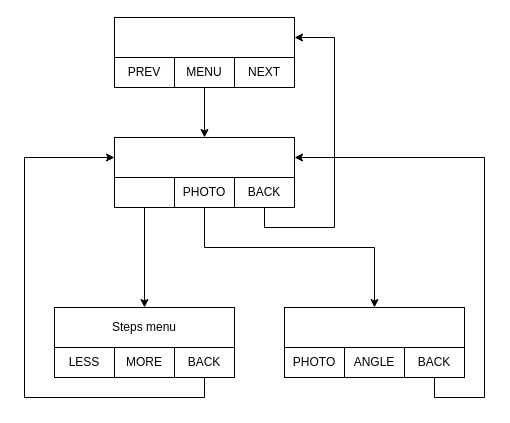
Some shapes in this 510 by 423 pixel diagram are drawn without their labels. The centre of each missing label's shape, as x and y in pixels:
Main menu: the point at 204,37
Photo menu: the point at 374,327
Settings menu: the point at 204,157
STEPS: the point at 144,192
